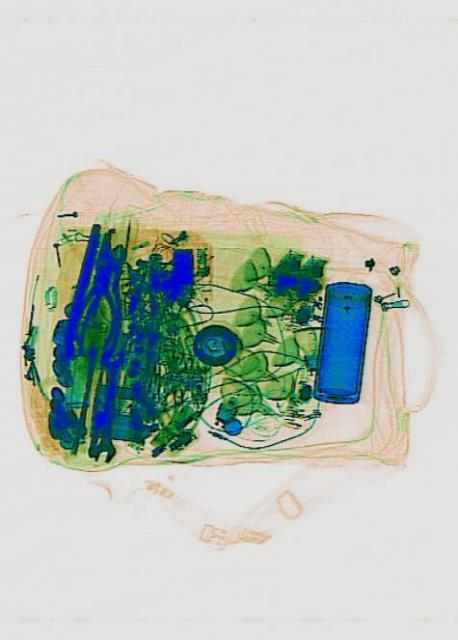Pliers: (63, 232, 140, 366), (68, 224, 125, 364)
Wrench: (87, 340, 124, 464)
